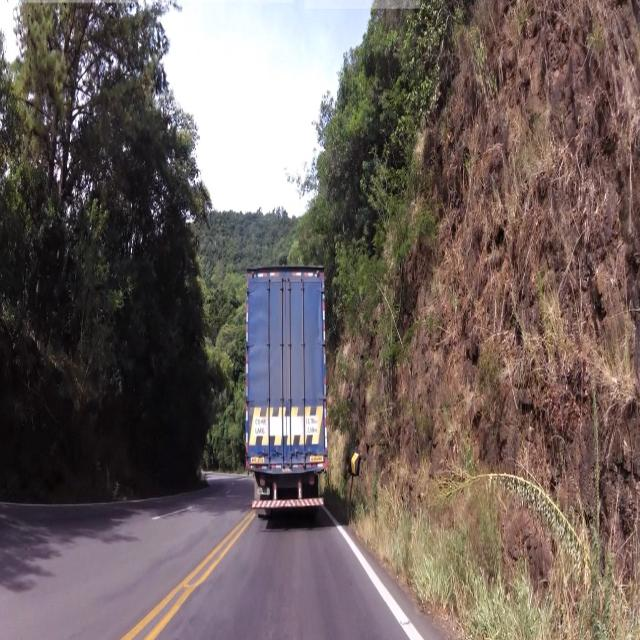Del: (352, 449, 362, 480)
